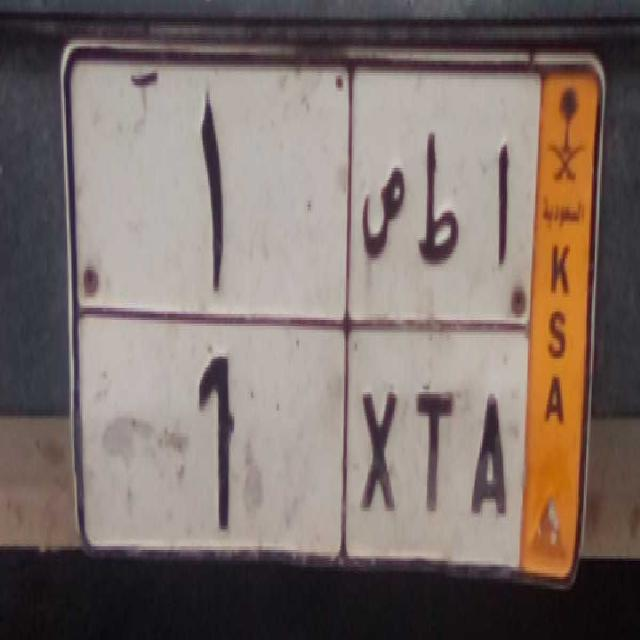license_plate: (75, 302, 525, 568)
